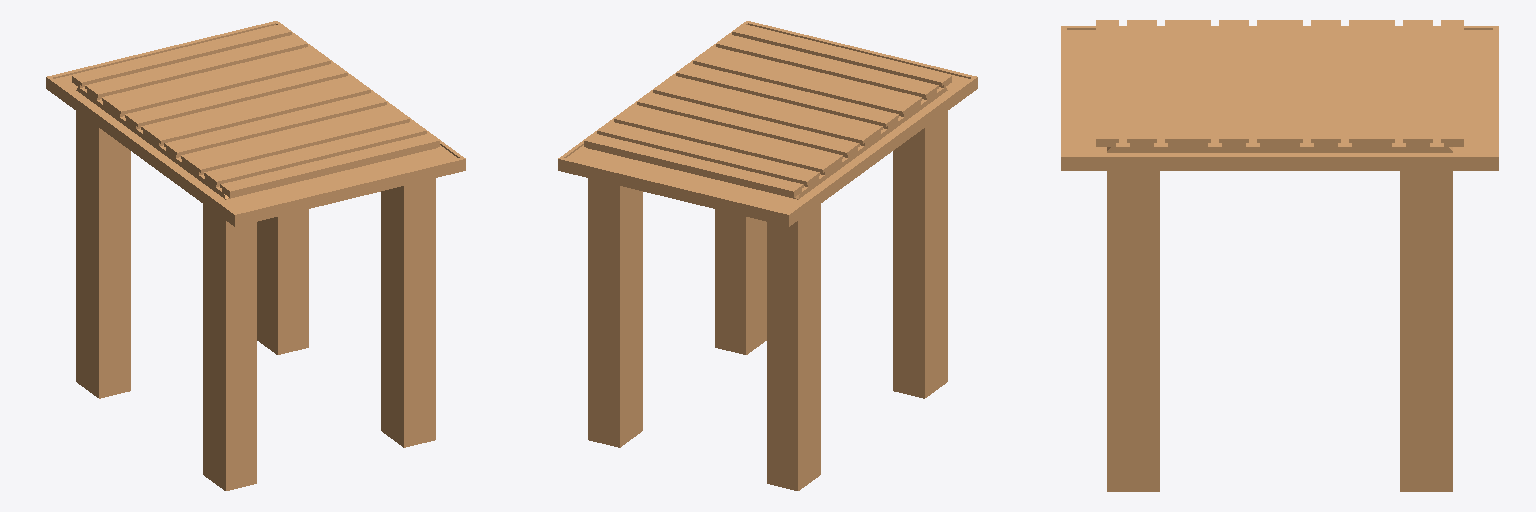
URDF robot description (milling_table):
<?xml version="1.0"?>
<robot name="milling_table">
  <link name="milling_table_origin">
    <visual>
      	<geometry>
          	<mesh filename="package://process_visualizer/resources/milling_table.stl"
                scale="1 1 1"/>
      	</geometry>
	  	<material name="ABS" >
          	<color rgba="0.9 0.7 0.5 1.0" />
         </material> 	
    </visual>
    <inertial>
      <origin xyz="0 0 1" rpy="0 0 0"/>
      <mass value="1"/>
      <inertia
        ixx="1.0" ixy="0.0" ixz="0.0"
        iyy="1.0" iyz="0.0"
        izz="1.0"/>
    </inertial>

  </link>
  <link name="world"/>

  <joint name="fixed" type="fixed">
    <parent link="world"/>
    <child link="milling_table_origin"/>
  </joint>

</robot>

--- Render facts (derived) ---
Views: 3 orthographic renders of the robot side by side, from view 1: azimuth 30°, elevation 25°; view 2: azimuth 150°, elevation 25°; view 3: azimuth 270°, elevation 25°.
Model milling_table with 2 links and 1 joints (1 fixed), rooted at world, posed all joints at 0.
Links seen in each view (by area): view 1: milling_table_origin; view 2: milling_table_origin; view 3: milling_table_origin.
Boxes of the visible links, box(x1,y1,x2,y2) form: milling_table_origin: box(46, 21, 465, 490); milling_table_origin: box(558, 21, 977, 490); milling_table_origin: box(1061, 20, 1498, 491).
Bounding box of the posed robot: 0.528 × 0.748 × 0.6626 m (x, y, z).
1 mesh visuals loaded from 1 distinct referenced files (1 binary STL).